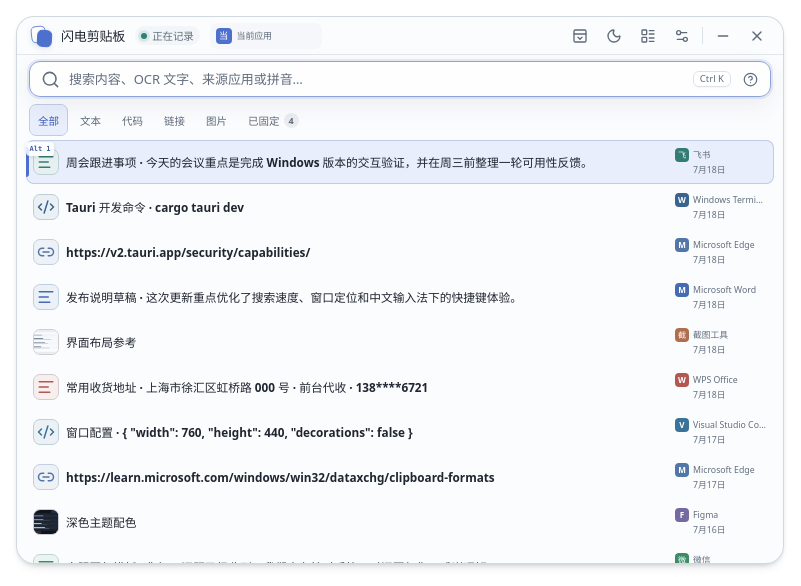
quick panel high-frequency interaction › makes a pinyin-only search match visible without altering the original text
The image size is (801, 586).
Step 1. Type "huiyi" into the dropdown with test id "search-input" → (400, 79), box [29,61,771,97]
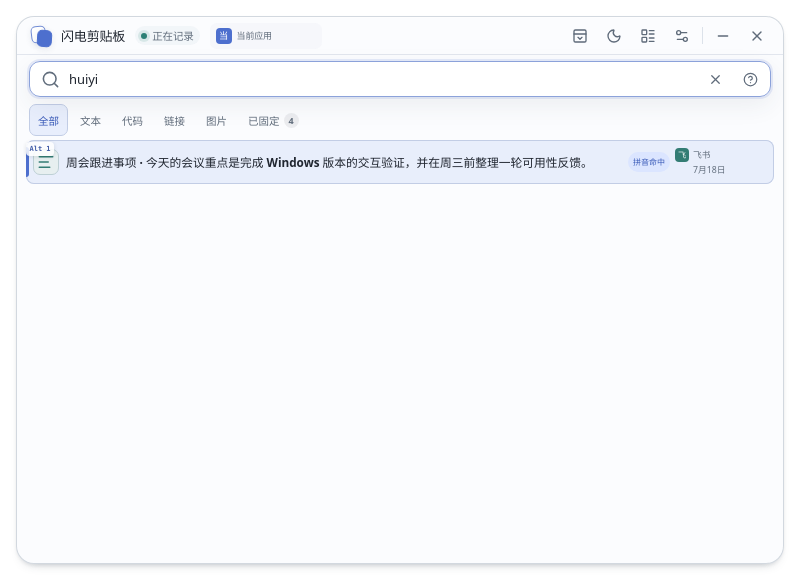
Expected: the list item shows "周会跟进事项", [26,140,774,184]
Now the text "拼音命中" is shown, box [628,152,670,172]
